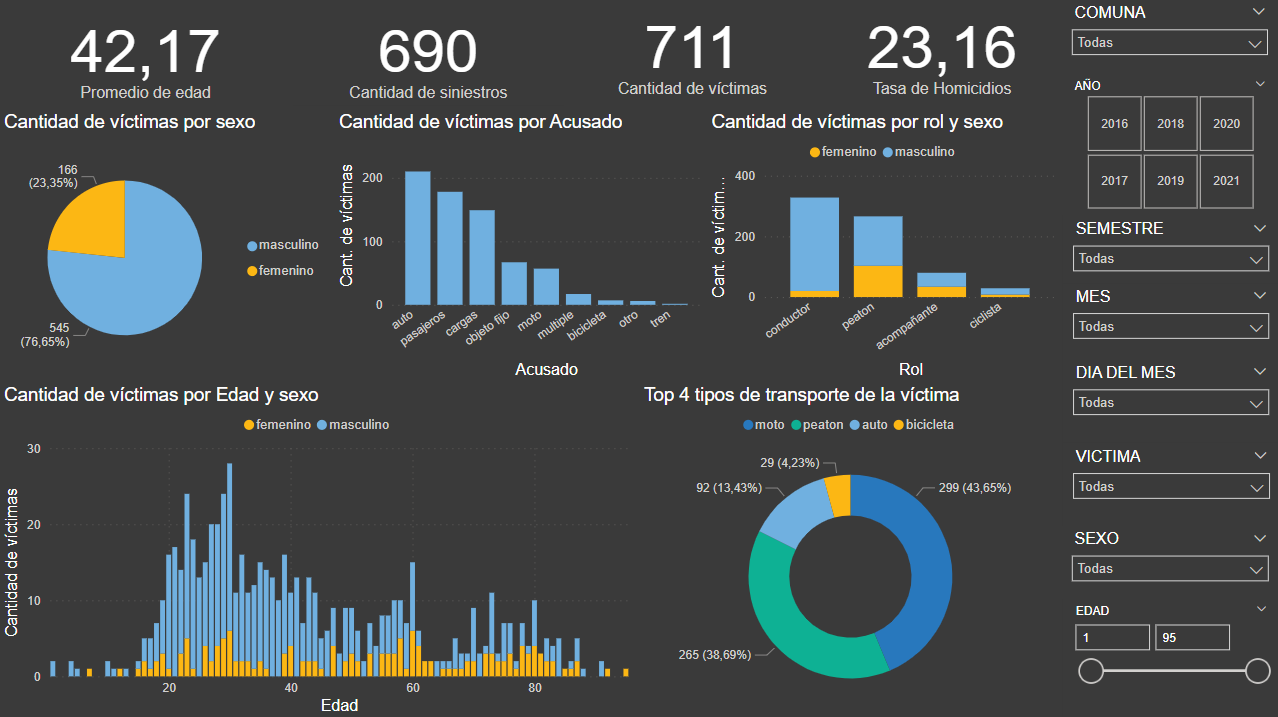

This screenshot's page, from the dashboard's own definition file:
{"tool":"powerbi","page":{"name":"Víctimas","canvas":[1280,720],"ordinal":3},"visuals":[{"type":"pieChart","fields":{"Category":["víctimas.sexo"],"Y":["CountNonNull(víctimas.ID_victima)"]},"box":[0,112.7,334.9,272.4],"z":0},{"type":"columnChart","fields":{"Category":["víctimas.rol"],"Y":["CountNonNull(víctimas.ID_victima)"],"Series":["víctimas.sexo"]},"box":[707,112.8,355.8,272.1],"z":1000},{"type":"columnChart","fields":{"Category":["víctimas.edad"],"Series":["víctimas.sexo"],"Y":["CountNonNull(víctimas.victima)"]},"box":[0,384.9,639.5,334.9],"z":2000},{"type":"clusteredColumnChart","fields":{"Category":["hechos.acusado"],"Y":["Sum(hechos.n_victimas)"]},"box":[334.9,112.8,372.1,272.1],"z":3000},{"type":"donutChart","title":"Top 4 tipos de transporte de la víctima","fields":{"Category":["hechos.victima"],"Y":["CountNonNull(víctimas.ID_victima)"]},"box":[639.5,384.9,423.3,334.9],"z":4000},{"type":"card","fields":{"Values":["hechos.Tasa de Homicidios"]},"box":[821.9,2.6,241.5,100],"z":5000},{"type":"card","fields":{"Values":["Sum(hechos.n_victimas)"]},"box":[564.8,2.6,257.1,100],"z":6000},{"type":"card","fields":{"Values":["CountNonNull(hechos.ID)"]},"box":[293.4,6.5,271.4,100],"z":7000},{"type":"slicer","fields":{"Values":["calendario.año"]},"box":[1062.7,74.9,216.2,141.3],"z":8000},{"type":"slicer","fields":{"Values":["calendario.mes"]},"box":[1063.8,284,216.2,76.3],"z":9000},{"type":"slicer","fields":{"Values":["calendario.dia"]},"box":[1063.8,360.3,216.2,83.4],"z":10000},{"type":"slicer","fields":{"Values":["hechos.victima"]},"box":[1063.4,444.1,216.8,83.1],"z":11000},{"type":"slicer","fields":{"Values":["víctimas.sexo"]},"box":[1062.5,526.2,217.5,86.2],"z":12000},{"type":"slicer","fields":{"Values":["hechos.comuna"]},"box":[1062.7,0,216.1,74.4],"z":13000},{"type":"slicer","fields":{"Values":["calendario.semestre"]},"box":[1063.8,216.2,216.2,67.8],"z":14000},{"type":"card","fields":{"Values":["Avg(víctimas.edad)"]},"box":[0,0,293.4,113],"z":15000},{"type":"slicer","title":"EDAD","fields":{"Values":["víctimas.edad"]},"box":[1063.8,600,216.2,117.5],"z":16000}]}

Visuals, with their boxes in screenshot pixels (x1, y1, x2, y2), scaled from the page's 1280x720 canvas onto the 1278x717 screenshot:
pieChart - víctimas.sexo x CountNonNull(víctimas.ID_victima): {"x1": 0, "y1": 112, "x2": 334, "y2": 383}
columnChart - víctimas.rol x CountNonNull(víctimas.ID_victima): {"x1": 706, "y1": 112, "x2": 1061, "y2": 383}
columnChart - víctimas.edad x víctimas.sexo: {"x1": 0, "y1": 383, "x2": 639, "y2": 716}
clusteredColumnChart - hechos.acusado x Sum(hechos.n_victimas): {"x1": 334, "y1": 112, "x2": 706, "y2": 383}
"Top 4 tipos de transporte de la víctima" donutChart: {"x1": 639, "y1": 383, "x2": 1061, "y2": 716}
card - hechos.Tasa de Homicidios: {"x1": 821, "y1": 3, "x2": 1062, "y2": 102}
card - Sum(hechos.n_victimas): {"x1": 564, "y1": 3, "x2": 821, "y2": 102}
card - CountNonNull(hechos.ID): {"x1": 293, "y1": 6, "x2": 564, "y2": 106}
slicer - calendario.año: {"x1": 1061, "y1": 75, "x2": 1277, "y2": 215}
slicer - calendario.mes: {"x1": 1062, "y1": 283, "x2": 1277, "y2": 359}
slicer - calendario.dia: {"x1": 1062, "y1": 359, "x2": 1277, "y2": 442}
slicer - hechos.victima: {"x1": 1062, "y1": 442, "x2": 1277, "y2": 525}
slicer - víctimas.sexo: {"x1": 1061, "y1": 524, "x2": 1277, "y2": 610}
slicer - hechos.comuna: {"x1": 1061, "y1": 0, "x2": 1277, "y2": 74}
slicer - calendario.semestre: {"x1": 1062, "y1": 215, "x2": 1277, "y2": 283}
card - Avg(víctimas.edad): {"x1": 0, "y1": 0, "x2": 293, "y2": 113}
"EDAD" slicer: {"x1": 1062, "y1": 598, "x2": 1277, "y2": 715}
